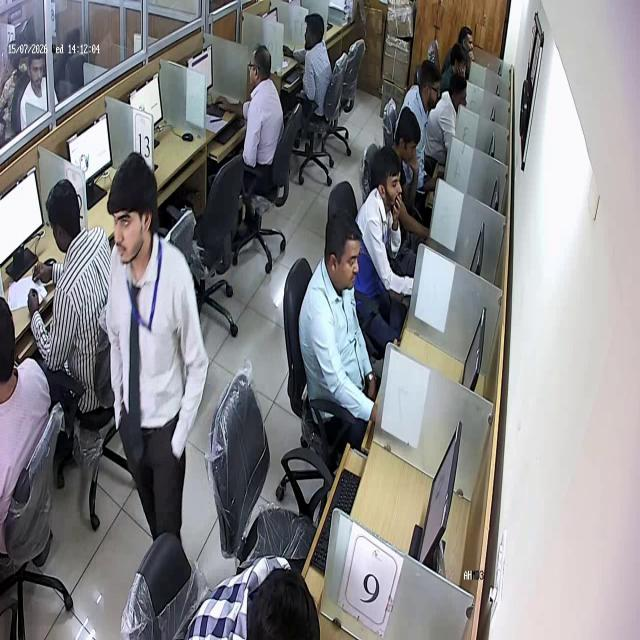paper-chit: (28, 274, 48, 304)
